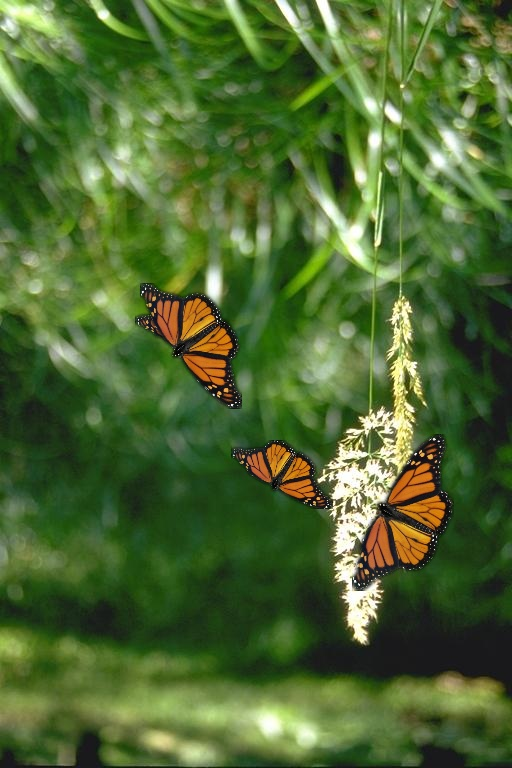danaus_plexippus: (352, 434, 454, 591), (140, 283, 242, 409), (231, 440, 333, 509), (135, 300, 237, 353)
